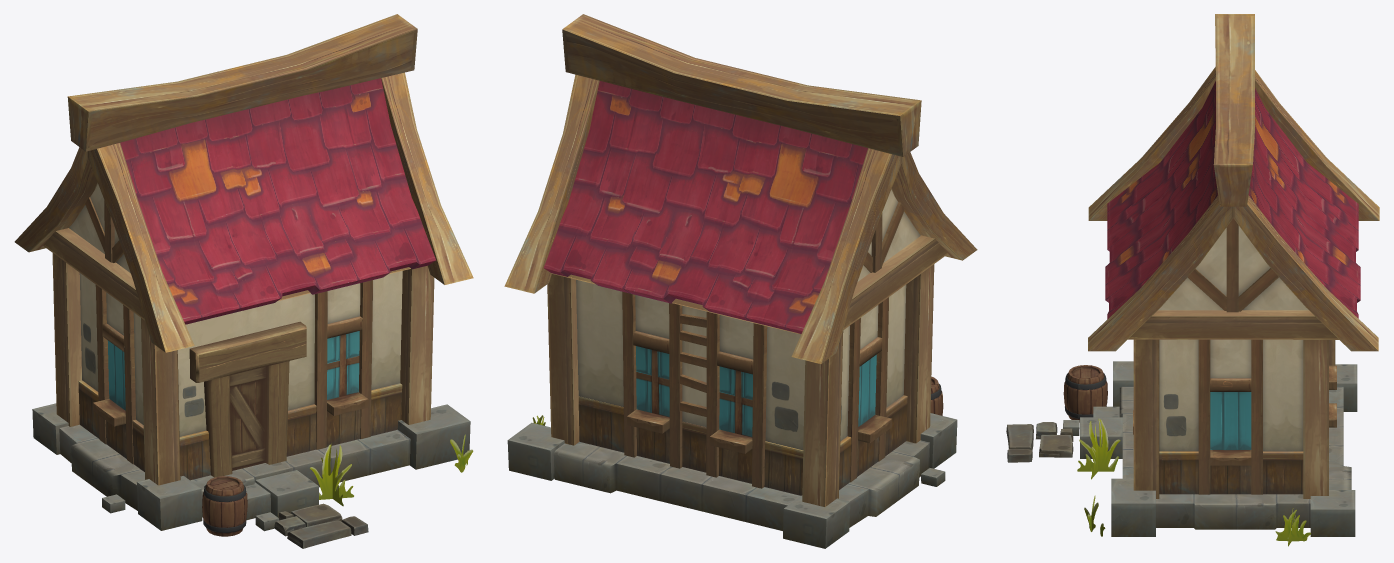
Rendered from house.FBX.
3 views of the same model, side by side, from view 1: azimuth 30°, elevation 25°; view 2: azimuth 150°, elevation 25°; view 3: azimuth 270°, elevation 25° (orthographic). The views are drawn at different scales.
Parts seen in each view (by area): view 1: house; view 2: house; view 3: house.
Part boxes in pixels (x1,y1,x2,y2): house: (14,14,473,548); house: (504,14,977,548); house: (1006,14,1379,546).
Bounding box in the file's own units: 1156 × 1252 × 1119.
4 materials, 4 textured.
